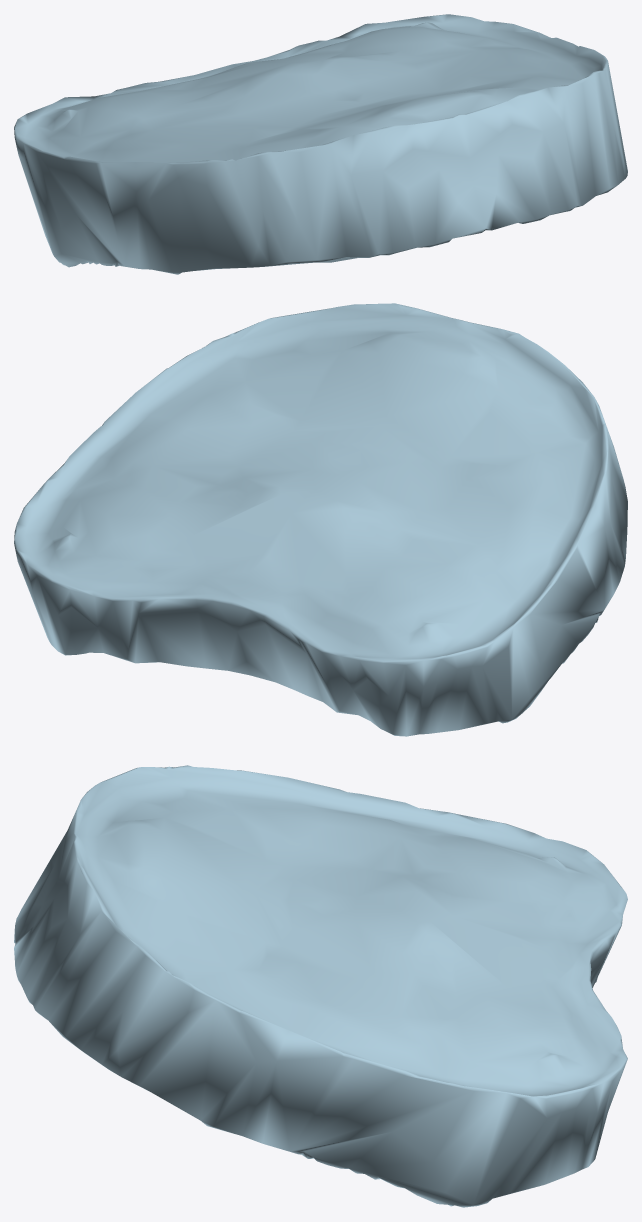
The model's file is articulacoes-intervertebral-disc-t11-t12.glb.
The picture shows the model from 3 angles, top to bottom: view 1: azimuth 30°, elevation 25°; view 2: azimuth 150°, elevation 25°; view 3: azimuth 270°, elevation 25°; orthographic projection. The views are drawn at different scales.
Parts seen in each view (by area): view 1: Intervertebral disc T11-T12; view 2: Intervertebral disc T11-T12; view 3: Intervertebral disc T11-T12.
Boxes of the visible parts, <box> form: Intervertebral disc T11-T12: <box>14,14,627,274</box>; Intervertebral disc T11-T12: <box>14,303,627,736</box>; Intervertebral disc T11-T12: <box>14,765,627,1207</box>.
Size of the model in its own units: 0.0423 by 0.018 by 0.0403.
